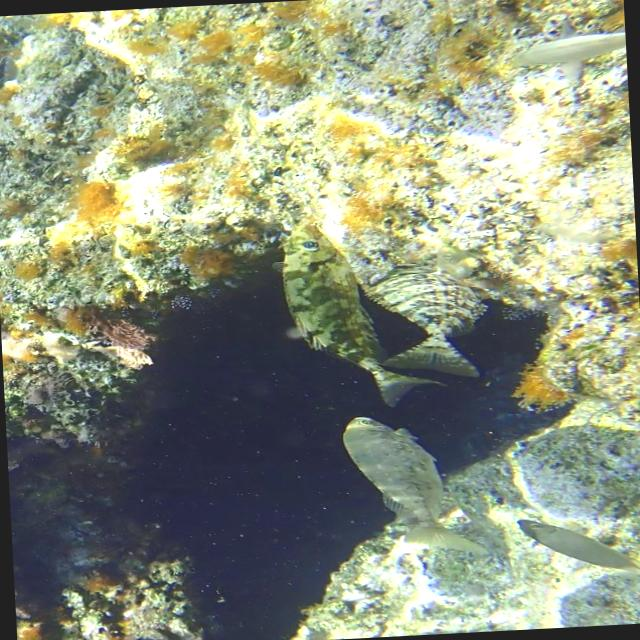Sokar Baligi: (266, 205, 449, 413), (323, 408, 496, 568), (506, 505, 640, 593)
